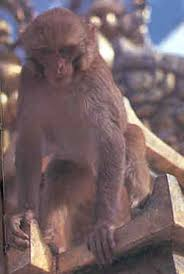monkey: (6, 9, 180, 273)
